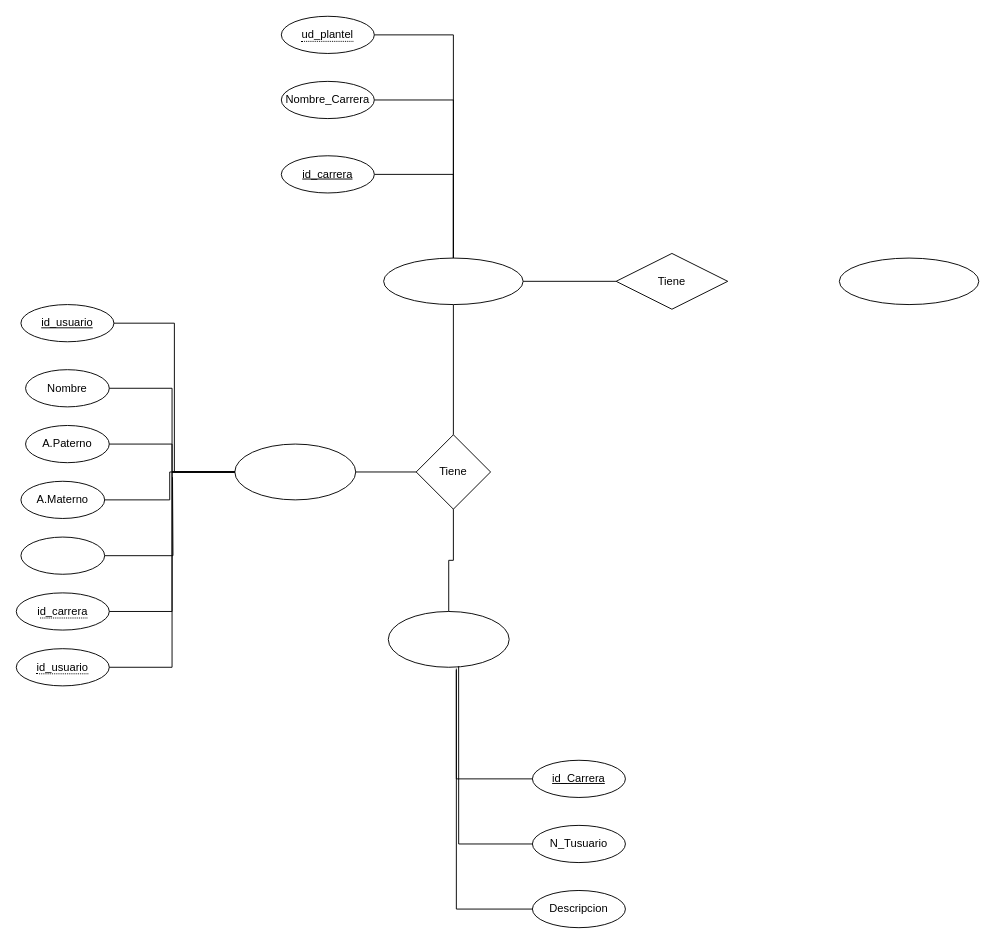
Image size: 995x944. Some labels were removed from this diagram. The shapes that lost their labels are listed below. From the top down, each one's box as (x1, y1, x2, y2) in pixels, then its label:
(383, 257, 523, 305): Carrera
(838, 257, 979, 305): Plantel
(234, 443, 356, 500): Usuario
(20, 536, 105, 574): Telefono_u
(387, 611, 509, 667): T.Usuario
